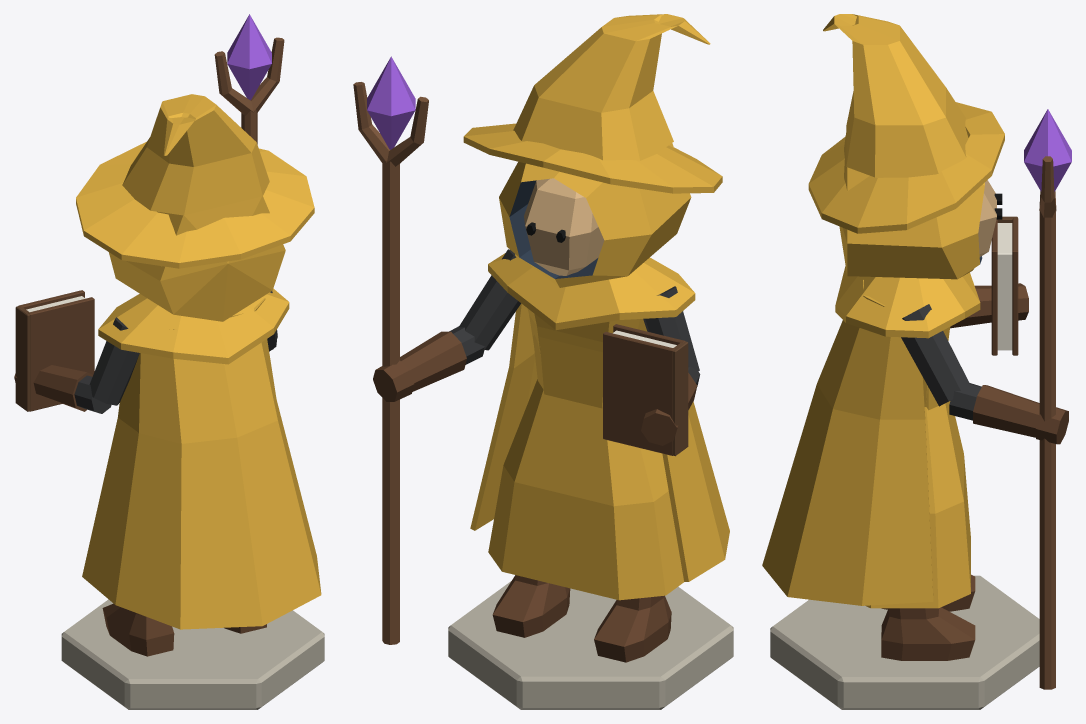
File: human_mage_t5.glb
The picture shows the model from 3 angles, left to right: view 1: azimuth 30°, elevation 25°; view 2: azimuth 150°, elevation 25°; view 3: azimuth 270°, elevation 25°; orthographic projection. The views are drawn at different scales.
Parts seen in each view (by area): view 1: Caster_Long_Back_Cape, Foundation_Hexagonal_Stone, Mage_One_Broad_Thin_Wizard_Brim, Mage_One_Left_Back_Bent_Wizard_Hat, Caster_Open_Low_Cowl, Plain_Caster_Shoulder_Mantle, Mage_Spellbook_Rear_Leather_Cover, Boot_-1, Mage_Exactly_One_Violet_Diamond_Crystal, left_upper_sleeve, Mage_Spellbook_Leather_Spine, left_bracer (+3 smaller); view 2: Caster_Continuous_Long_Robe, Foundation_Hexagonal_Stone, Mage_One_Left_Back_Bent_Wizard_Hat, Caster_Long_Back_Cape, Caster_Open_Low_Cowl, Plain_Caster_Shoulder_Mantle, Mage_One_Plain_Wooden_Staff_Shaft, Mage_One_Broad_Thin_Wizard_Brim, Mage_Spellbook_Front_Leather_Cover, Angular_Face, Boot_-1, Continuous_Tunic_Bodice (+11 smaller); view 3: Caster_Long_Back_Cape, Foundation_Hexagonal_Stone, Mage_One_Left_Back_Bent_Wizard_Hat, Mage_One_Broad_Thin_Wizard_Brim, Caster_Open_Low_Cowl, Caster_Continuous_Long_Robe, Mage_One_Plain_Wooden_Staff_Shaft, Plain_Caster_Shoulder_Mantle, Boot_1, right_upper_sleeve, right_bracer, Mage_Exactly_One_Violet_Diamond_Crystal (+8 smaller).
Part boxes in pixels (box(x1,y1,x2,y2)): Caster_Long_Back_Cape: box(82, 339, 321, 629); Foundation_Hexagonal_Stone: box(61, 599, 324, 709); Mage_One_Broad_Thin_Wizard_Brim: box(76, 141, 314, 268); Mage_One_Left_Back_Bent_Wizard_Hat: box(122, 94, 269, 215); Caster_Open_Low_Cowl: box(109, 196, 285, 321); Plain_Caster_Shoulder_Mantle: box(98, 288, 289, 364); Mage_Spellbook_Rear_Leather_Cover: box(28, 297, 94, 411); Boot_-1: box(102, 603, 174, 656); Mage_Exactly_One_Violet_Diamond_Crystal: box(227, 14, 271, 100); left_upper_sleeve: box(89, 317, 139, 405); Mage_Spellbook_Leather_Spine: box(15, 306, 30, 411); left_bracer: box(33, 365, 92, 411); Caster_Continuous_Long_Robe: box(488, 262, 683, 600); Foundation_Hexagonal_Stone: box(448, 581, 733, 709); Mage_One_Left_Back_Bent_Wizard_Hat: box(513, 14, 710, 160); Caster_Long_Back_Cape: box(470, 303, 729, 581); Caster_Open_Low_Cowl: box(499, 143, 691, 287); Plain_Caster_Shoulder_Mantle: box(488, 253, 695, 330); Mage_One_Plain_Wooden_Staff_Shaft: box(382, 160, 399, 644); Mage_One_Broad_Thin_Wizard_Brim: box(463, 123, 722, 193); Mage_Spellbook_Front_Leather_Cover: box(603, 331, 674, 455); Angular_Face: box(524, 178, 604, 275); Boot_-1: box(594, 595, 671, 662); Continuous_Tunic_Bodice: box(533, 334, 602, 408); Caster_Long_Back_Cape: box(762, 320, 933, 605); Foundation_Hexagonal_Stone: box(770, 575, 1039, 709); Mage_One_Left_Back_Bent_Wizard_Hat: box(823, 14, 968, 177); Mage_One_Broad_Thin_Wizard_Brim: box(808, 102, 1004, 233); Caster_Open_Low_Cowl: box(839, 133, 984, 279); Caster_Continuous_Long_Robe: box(863, 280, 970, 608); Mage_One_Plain_Wooden_Staff_Shaft: box(1039, 210, 1055, 689); Plain_Caster_Shoulder_Mantle: box(835, 266, 980, 338); Boot_1: box(881, 607, 975, 660); right_upper_sleeve: box(901, 304, 969, 406); right_bracer: box(973, 385, 1039, 437); Mage_Exactly_One_Violet_Diamond_Crystal: box(1024, 109, 1071, 191).
Bounding box in the file's own units: 1.15 × 2.24 × 1.02.
